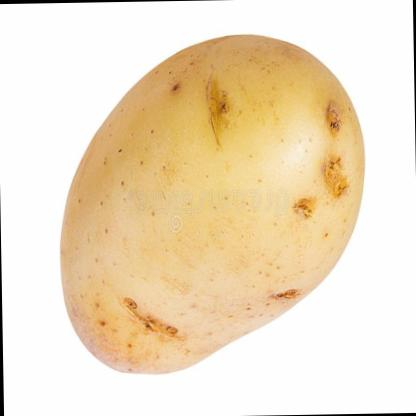potato: (55, 31, 370, 380)
